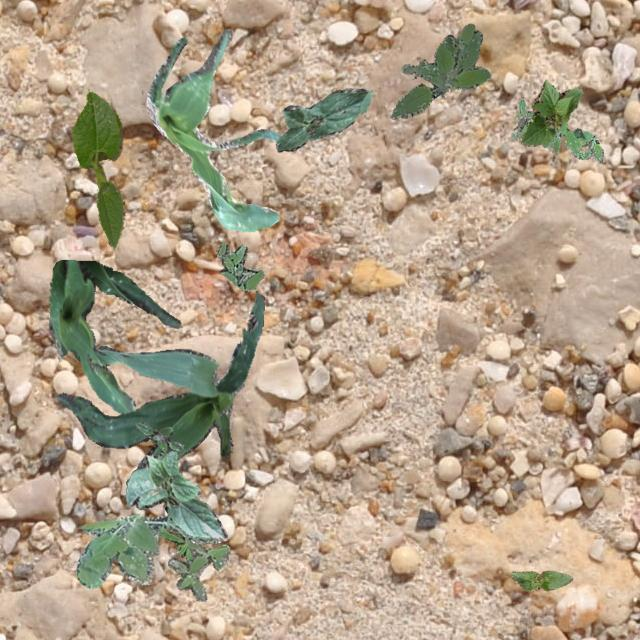crop: (55, 290, 264, 468), (146, 28, 280, 230), (48, 258, 180, 412), (125, 448, 226, 540), (70, 90, 124, 248), (274, 86, 372, 150), (520, 78, 582, 144), (509, 570, 572, 590)
weed: (76, 512, 220, 588), (390, 22, 490, 118), (510, 98, 602, 162), (166, 536, 228, 600), (215, 242, 262, 290), (134, 422, 182, 452), (156, 526, 193, 560)
